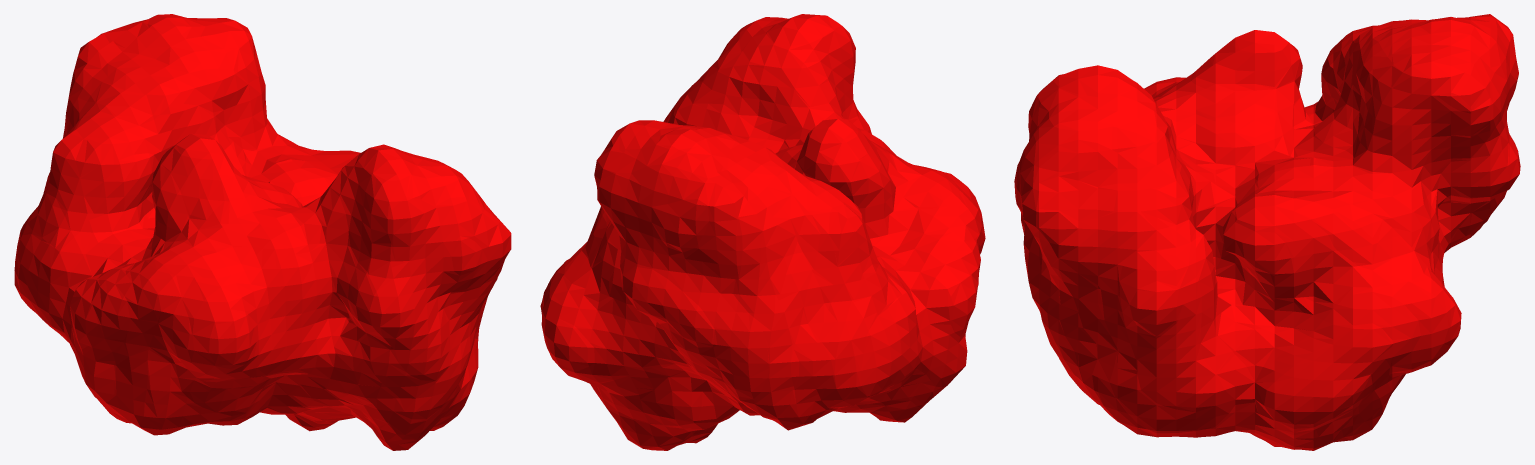
Rendered from rlmI_coarse.dae.
3 renders of one model, left to right at view 1: azimuth 30°, elevation 25°; view 2: azimuth 150°, elevation 25°; view 3: azimuth 270°, elevation 25°, orthographic. The views are drawn at different scales.
Visible parts, largest first — view 1: rlmI; view 2: rlmI; view 3: rlmI.
Part boxes in pixels (left/top/right/bottom): rlmI: left=14, top=14, right=511, bottom=450; rlmI: left=540, top=14, right=985, bottom=450; rlmI: left=1014, top=14, right=1520, bottom=450.
Size of the model in its own units: 73.45 by 69.05 by 81.46.
